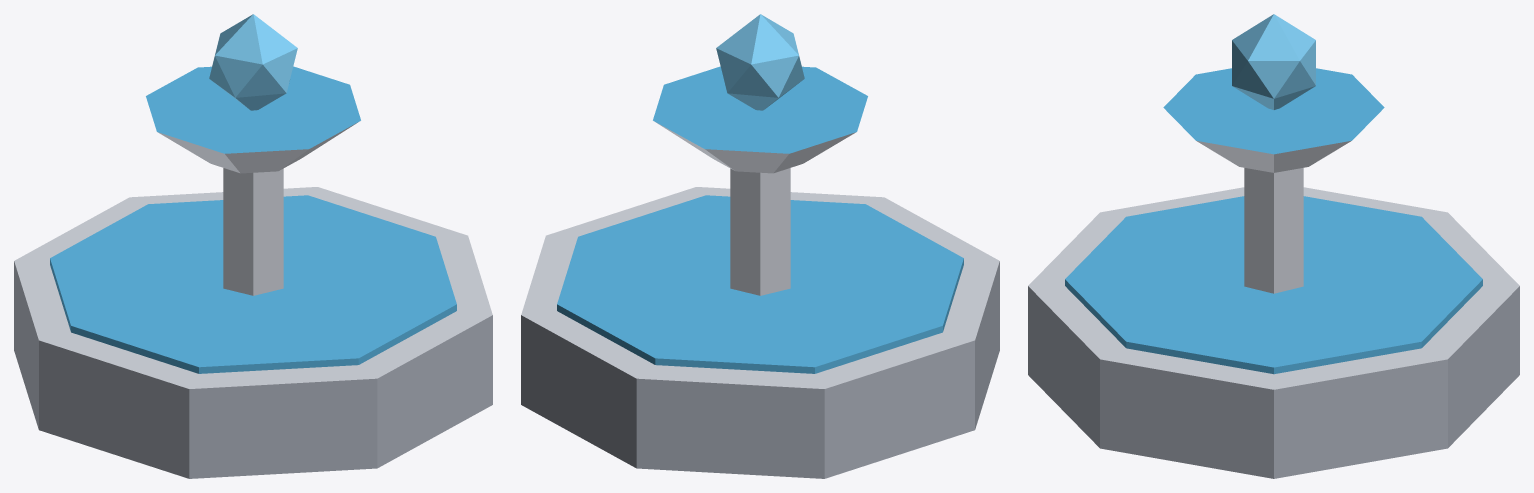
The model's file is prop_fountain.glb.
3 views of the same model, side by side, from view 1: azimuth 30°, elevation 25°; view 2: azimuth 150°, elevation 25°; view 3: azimuth 270°, elevation 25° (orthographic).
Parts seen in each view (by area): view 1: prop_fountain; view 2: prop_fountain; view 3: prop_fountain.
Boxes of the visible parts, x1,y1,x2,y2 form: prop_fountain: (14, 14, 492, 478); prop_fountain: (521, 14, 999, 478); prop_fountain: (1028, 14, 1519, 478).
Bounding box in the file's own units: 0.2 × 0.162 × 0.2.
